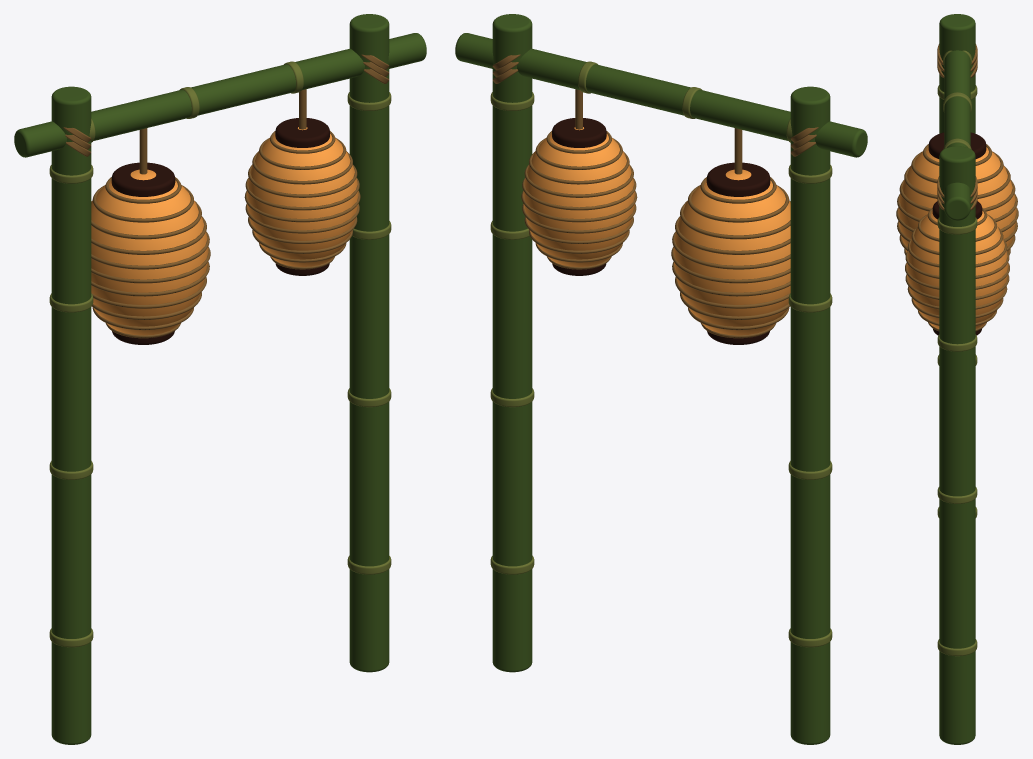
Rendered from 01_Paper_Lanterns.obj.
The picture shows the model from 3 angles, left to right: view 1: azimuth 30°, elevation 25°; view 2: azimuth 150°, elevation 25°; view 3: azimuth 270°, elevation 25°; orthographic projection. The views are drawn at different scales.
Parts seen in each view (by area): view 1: Post, Post.001, Glowing_paper, Crossbar, Glowing_paper.001, Wood_lantern_rim.001, Wood_lantern_rim.003; view 2: Post, Post.001, Glowing_paper, Crossbar, Glowing_paper.001, Wood_lantern_rim.001, Wood_lantern_rim.003; view 3: Post.001, Glowing_paper.001, Glowing_paper, Crossbar, Post, Wood_lantern_rim.001, Paper_rib.008, Paper_rib.007, Paper_rib.009, Bamboo_node.004, Bamboo_node.006, Bamboo_node.005 (+9 smaller).
Boxes of the visible parts, x1,y1,x2,y2 form: Post: (51, 86, 91, 744); Post.001: (349, 14, 389, 672); Glowing_paper: (91, 169, 208, 335); Crossbar: (14, 33, 426, 157); Glowing_paper.001: (246, 127, 358, 266); Wood_lantern_rim.001: (111, 162, 175, 196); Wood_lantern_rim.003: (275, 118, 329, 147); Post: (790, 86, 830, 744); Post.001: (492, 14, 532, 672); Glowing_paper: (673, 169, 790, 335); Crossbar: (455, 33, 867, 157); Glowing_paper.001: (523, 127, 635, 266); Wood_lantern_rim.001: (706, 162, 770, 196); Wood_lantern_rim.003: (552, 118, 606, 147); Post.001: (939, 146, 975, 744); Glowing_paper.001: (906, 211, 1008, 328); Glowing_paper: (898, 147, 1016, 252); Crossbar: (944, 50, 970, 220); Post: (939, 14, 975, 133); Wood_lantern_rim.001: (928, 132, 986, 158); Paper_rib.008: (904, 166, 1010, 198); Paper_rib.007: (899, 179, 1015, 211); Paper_rib.009: (911, 151, 1003, 183); Bamboo_node.004: (937, 639, 977, 656); Bamboo_node.006: (937, 334, 977, 351); Bamboo_node.005: (937, 487, 977, 503).
Size of the model in its own units: 1.56 by 2.4 by 0.454.
